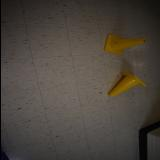cone: (106, 71, 146, 97), (103, 34, 146, 55)
